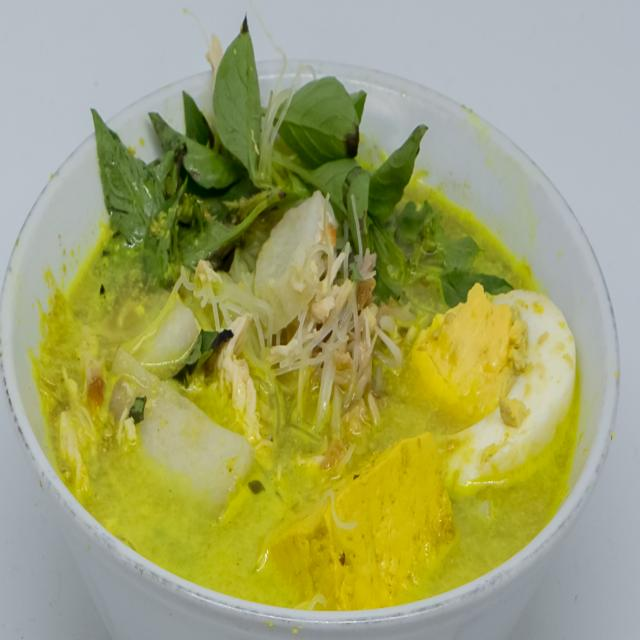Laksa-Bogor: (40, 14, 607, 615)
